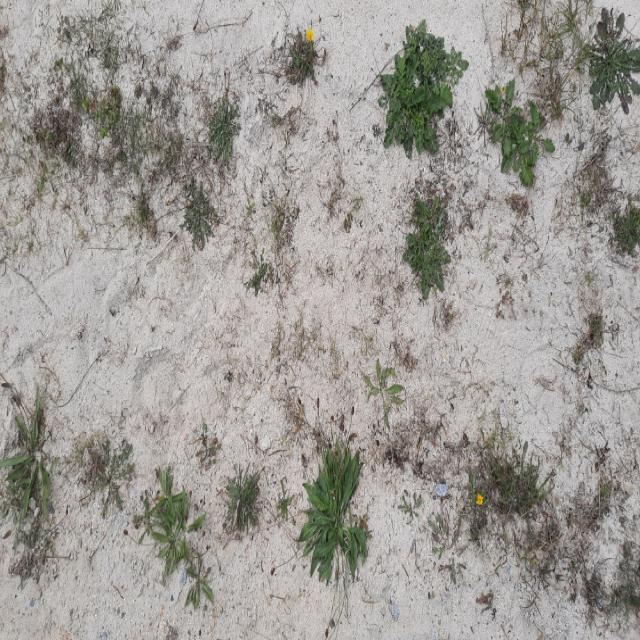grass: (378, 20, 468, 157), (133, 467, 213, 607), (297, 438, 366, 593), (0, 388, 53, 548), (479, 80, 554, 185), (588, 10, 639, 113), (403, 197, 450, 298), (226, 465, 260, 532)
white-sand: (0, 0, 639, 639)
